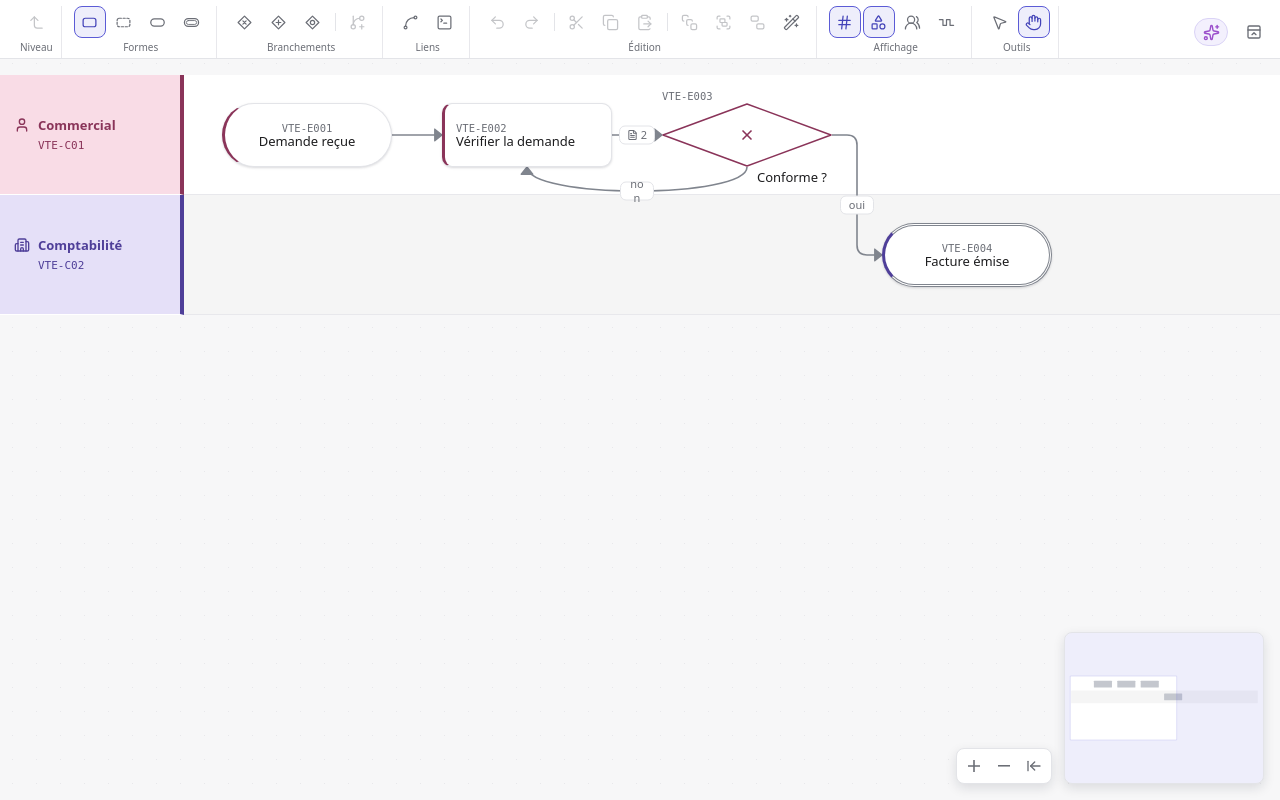
Test: the sheet docked on the right (B-4-01, B-4-05, B-2.1-39, B-2.1-40) › Enter on a step with content docks its sheet beside the canvas, in the workspace, then follows a click on another step; a click on the background closes it; the
Click the element showing "VTE-E002 Vérifier la demande" at (527, 135), box 442,103 -> 612,167
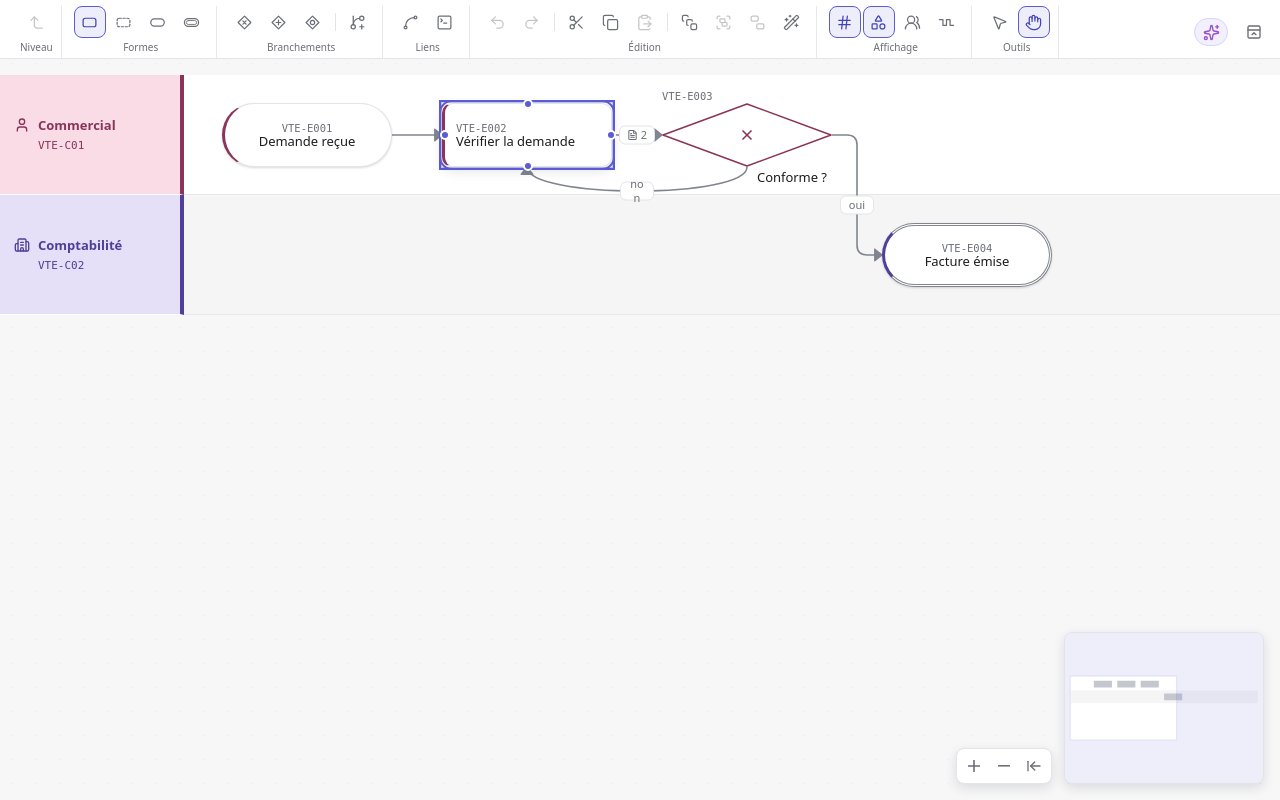
Press Enter in the element showing "VTE-E002 Vérifier la demande", box 442,103 -> 612,167
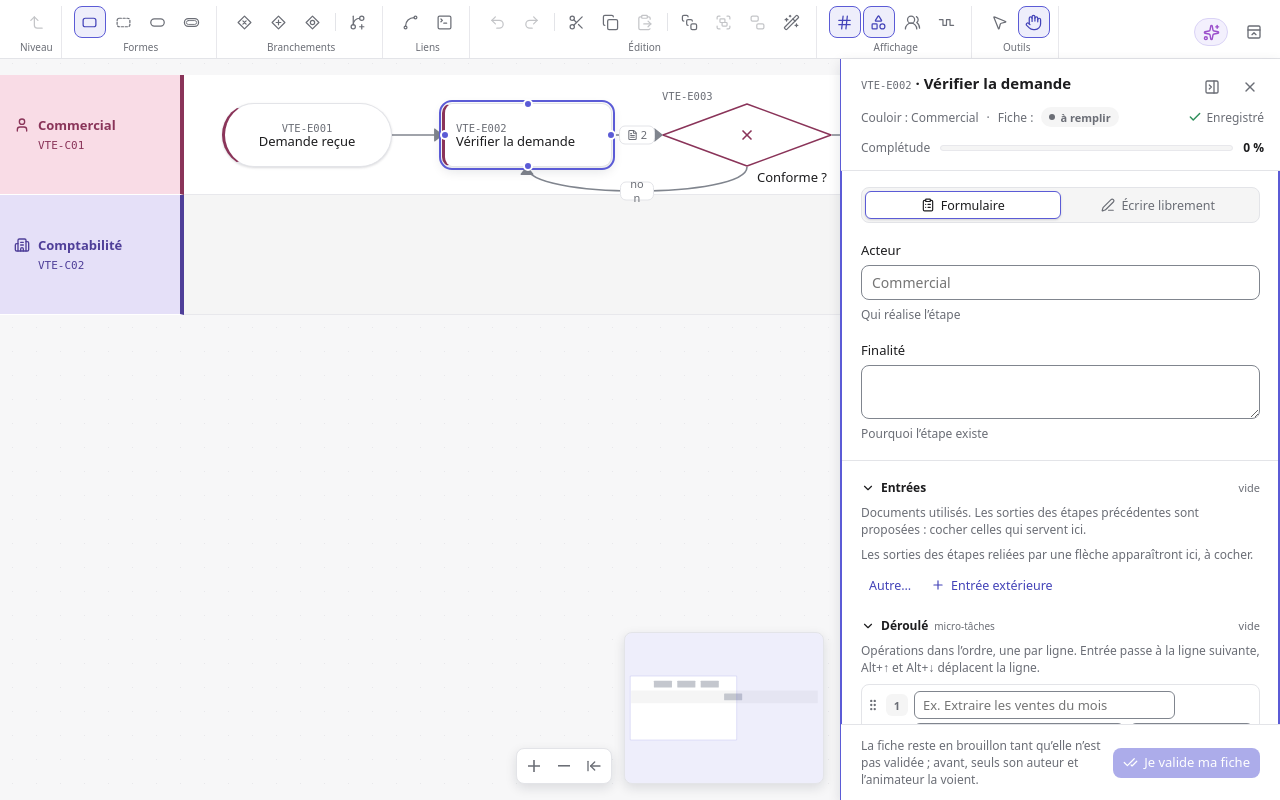
Now the heading with test id "sheet-title" reads "VTE-E002 · Vérifier la demande", box 861,73 -> 1071,93
Now the element with test id "sheet-meta" shows "Couloir : Commercial", box 861,108 -> 979,126
Click the element showing "VTE-E003 Conforme ?" at (747, 135), box 662,103 -> 832,167
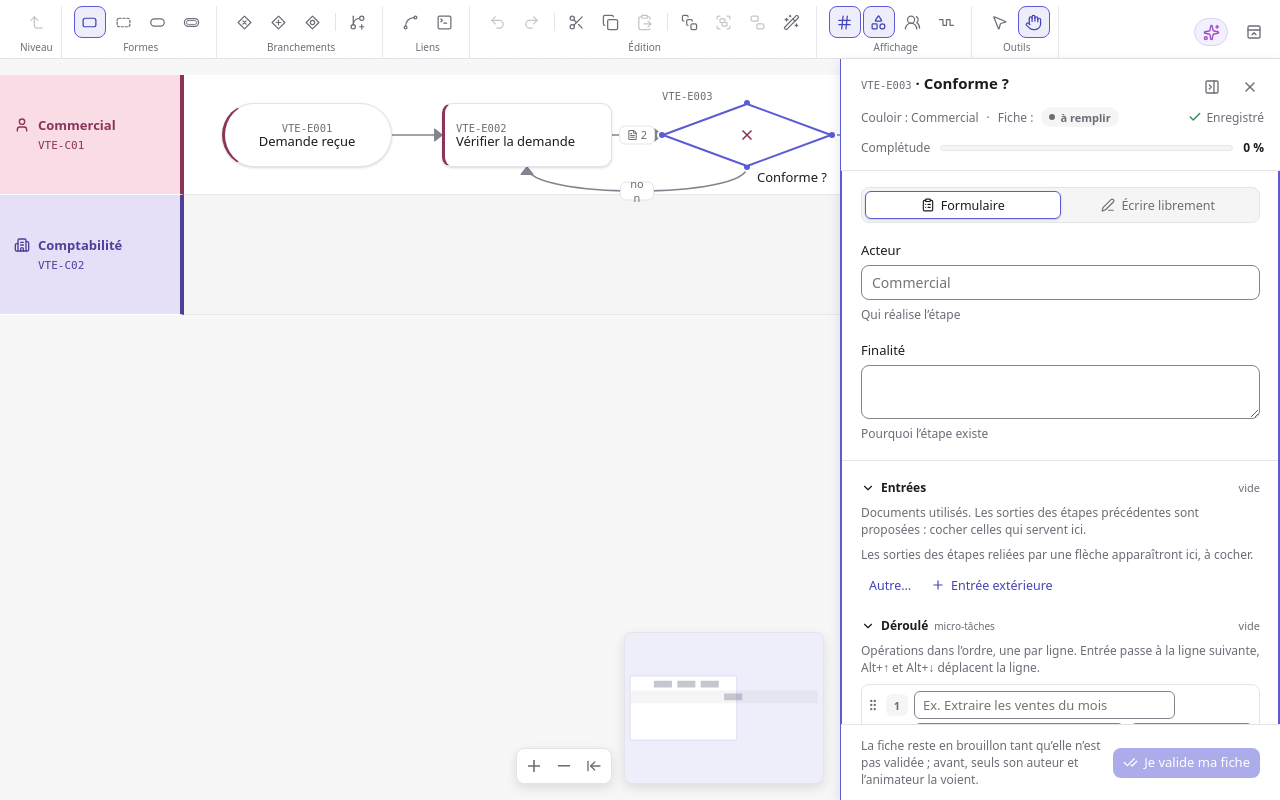
Now the 1st text "VTE-E003" is shown, box 861,79 -> 912,91
Click the element with class "react-flow__pane" at (644, 301), box 8,75 -> 1279,315
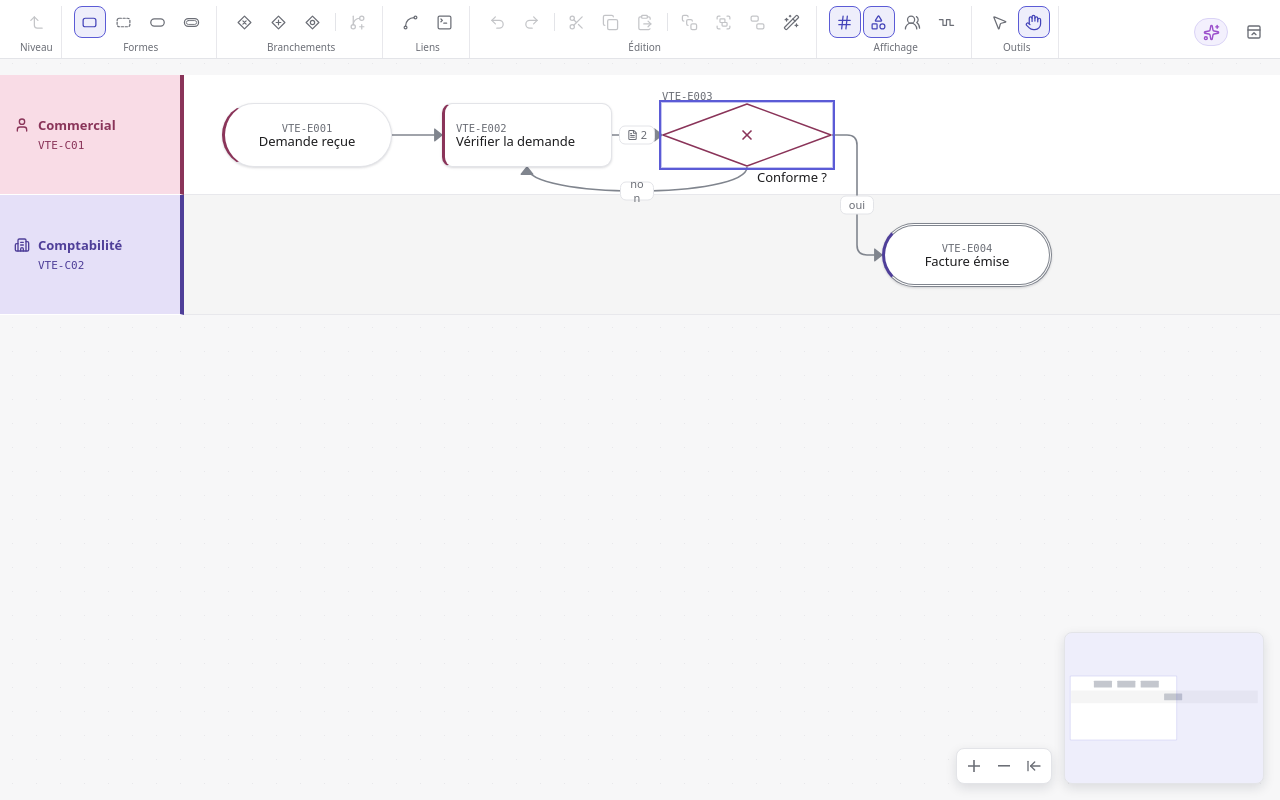
Now the element with test id "sheet-panel" is gone
